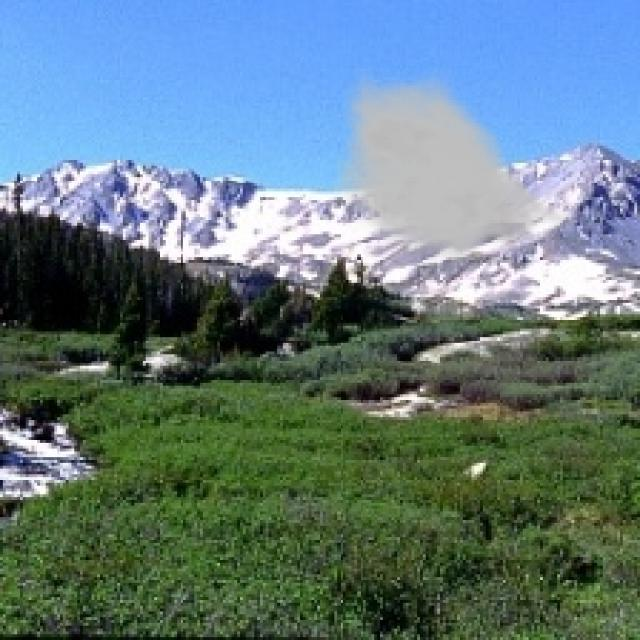smoke: (331, 65, 586, 268)
